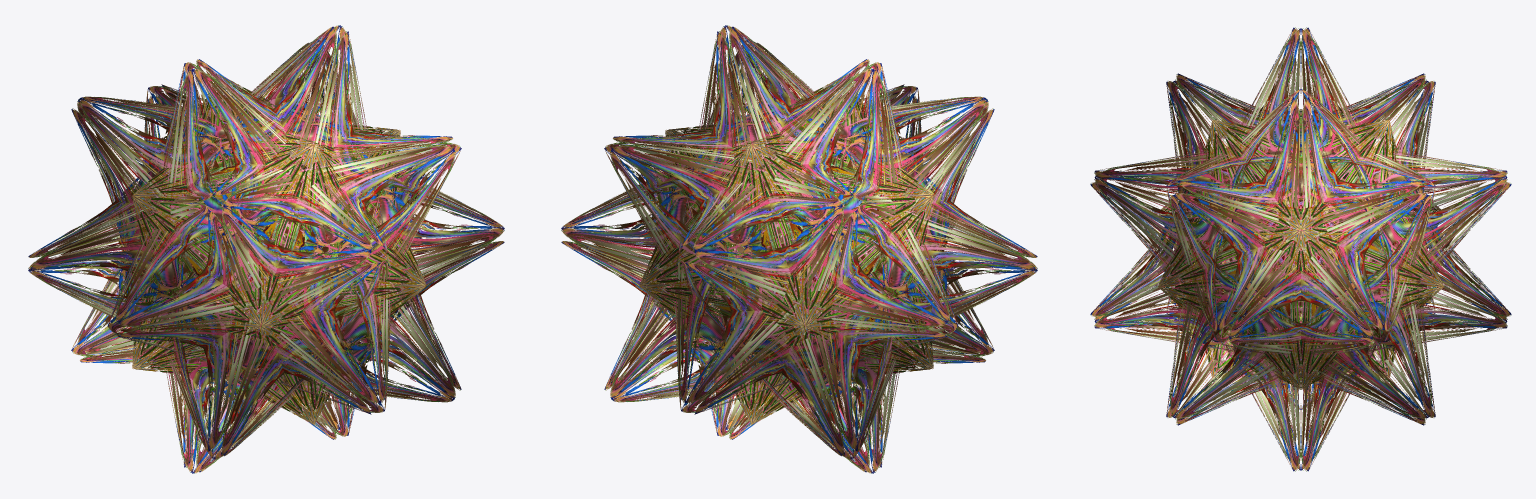
Rendered from GreatIcosacronicHexecontahedron9.gltf.
The picture shows the model from 3 angles, left to right: view 1: azimuth 30°, elevation 25°; view 2: azimuth 150°, elevation 25°; view 3: azimuth 270°, elevation 25°; orthographic projection. The views are drawn at different scales.
Visible parts, largest first — view 1: GreatIcosacronicHexecontahedron9; view 2: GreatIcosacronicHexecontahedron9; view 3: GreatIcosacronicHexecontahedron9.
Boxes of the visible parts, <box> form: GreatIcosacronicHexecontahedron9: <box>28,25,504,473</box>; GreatIcosacronicHexecontahedron9: <box>561,25,1037,473</box>; GreatIcosacronicHexecontahedron9: <box>1090,27,1511,471</box>.
Size of the model in its own units: 3.62 by 3.62 by 3.62.
Materials: 1 (1 with a texture image).
